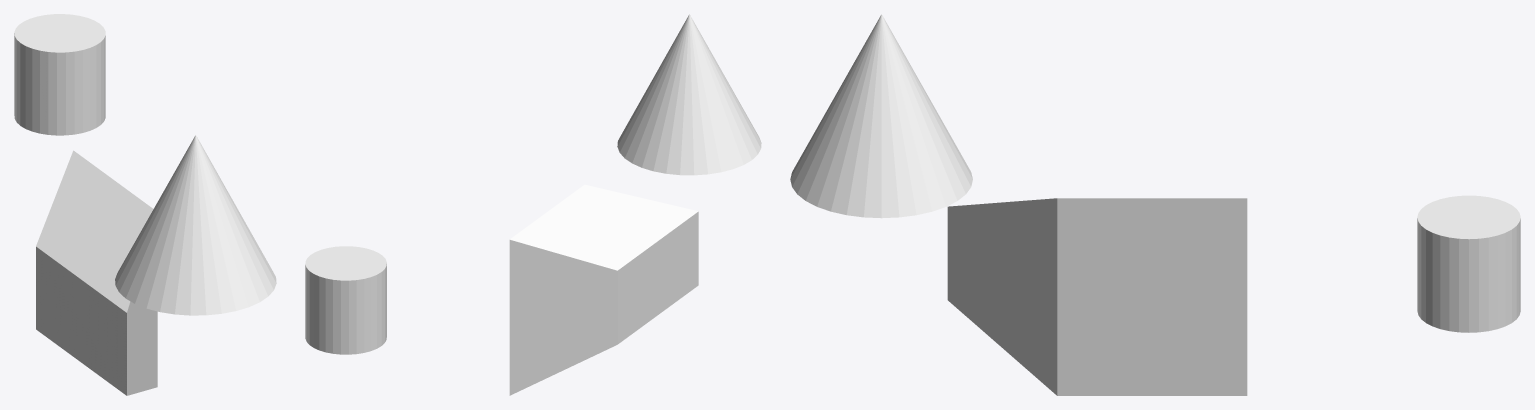
The picture shows the model from 3 angles, left to right: view 1: azimuth 30°, elevation 25°; view 2: azimuth 150°, elevation 25°; view 3: azimuth 270°, elevation 25°; orthographic projection. The views are drawn at different scales.
Visible parts, largest first — view 1: Cube, 円錐, 円柱; view 2: Cube, 円錐, 円柱; view 3: Cube, 円錐, 円柱.
Boxes of the visible parts, x1,y1,x2,y2 form: Cube: [36, 150, 157, 395]; 円錐: [115, 135, 276, 315]; 円柱: [14, 14, 105, 135]; Cube: [509, 184, 698, 395]; 円錐: [617, 14, 761, 175]; 円柱: [305, 246, 386, 354]; Cube: [947, 198, 1247, 395]; 円錐: [790, 14, 972, 218]; 円柱: [1417, 195, 1520, 332].
Size of the model in its own units: 5.91 by 7.69 by 14.14.
